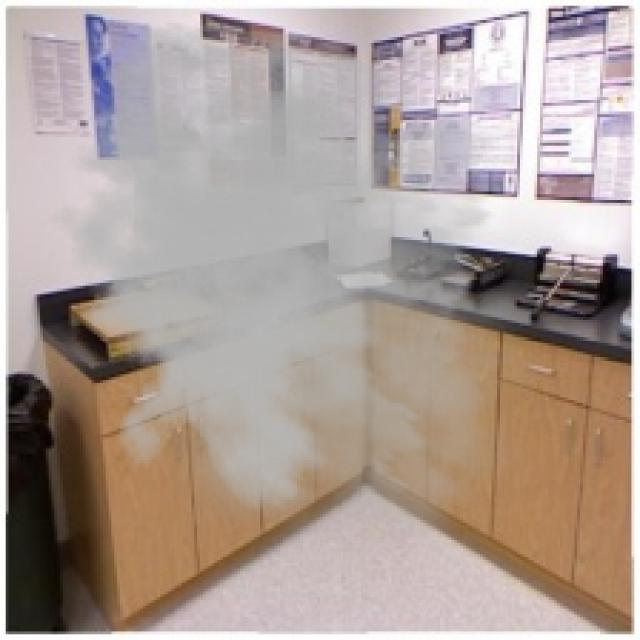smoke: (34, 20, 554, 560)
